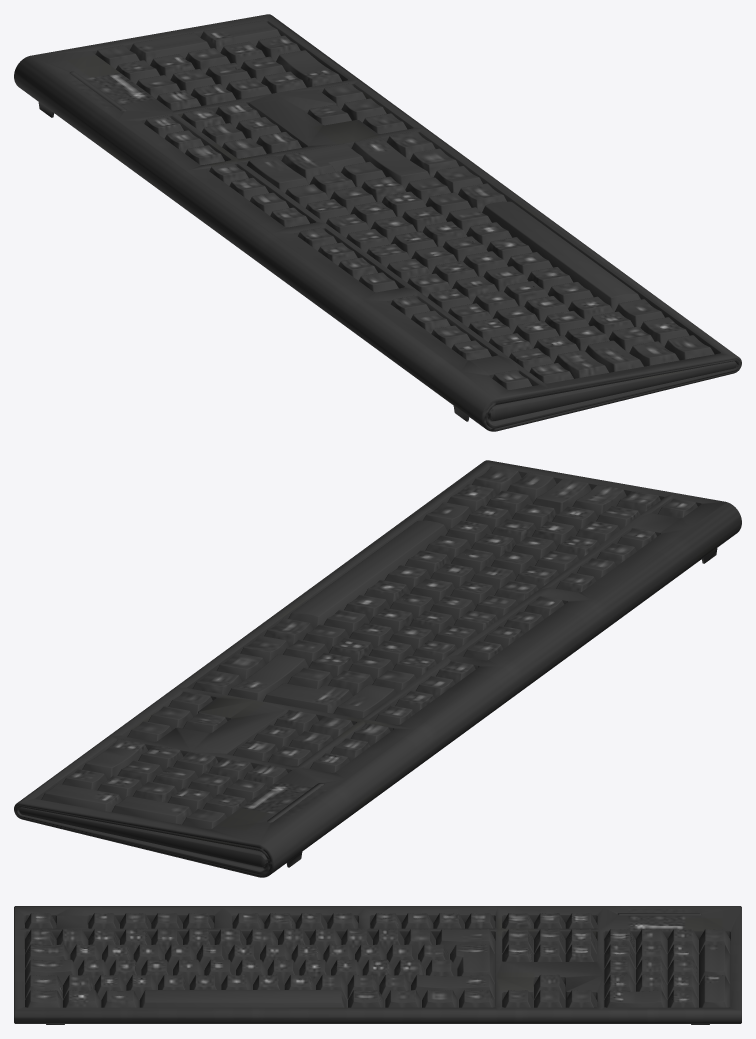
File: warehouse_computer_keyboard_a01.glb
The picture shows the model from 3 angles, top to bottom: view 1: azimuth 30°, elevation 25°; view 2: azimuth 150°, elevation 25°; view 3: azimuth 270°, elevation 25°; orthographic projection. The views are drawn at different scales.
Parts seen in each view (by area): view 1: sm_computer_keyboard_a01_mesh_00.001; view 2: sm_computer_keyboard_a01_mesh_00.001; view 3: sm_computer_keyboard_a01_mesh_00.001.
Part boxes in pixels (box(x1,y1,x2,y2)): sm_computer_keyboard_a01_mesh_00.001: box(14, 14, 741, 431); sm_computer_keyboard_a01_mesh_00.001: box(14, 460, 741, 877); sm_computer_keyboard_a01_mesh_00.001: box(14, 906, 741, 1024).
Size of the model in its own units: 0.142 by 0.0202 by 0.442.
Materials: 1 (1 with a texture image).
